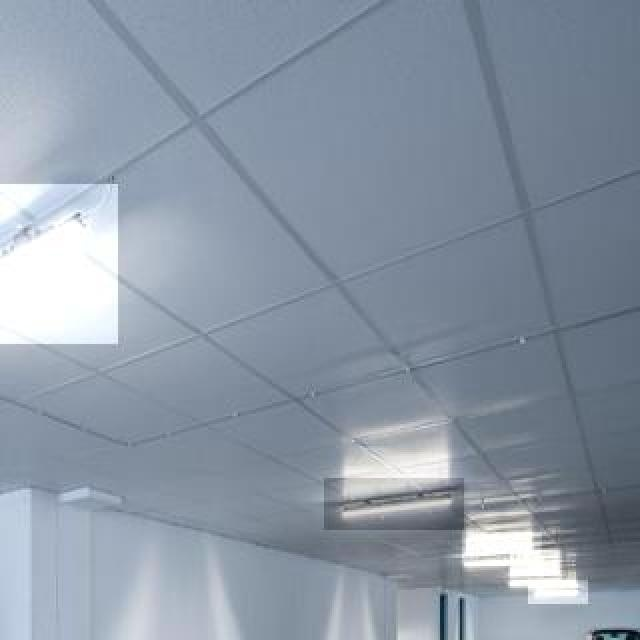fluorescent tube: (0, 216, 68, 310), (323, 491, 454, 534)
